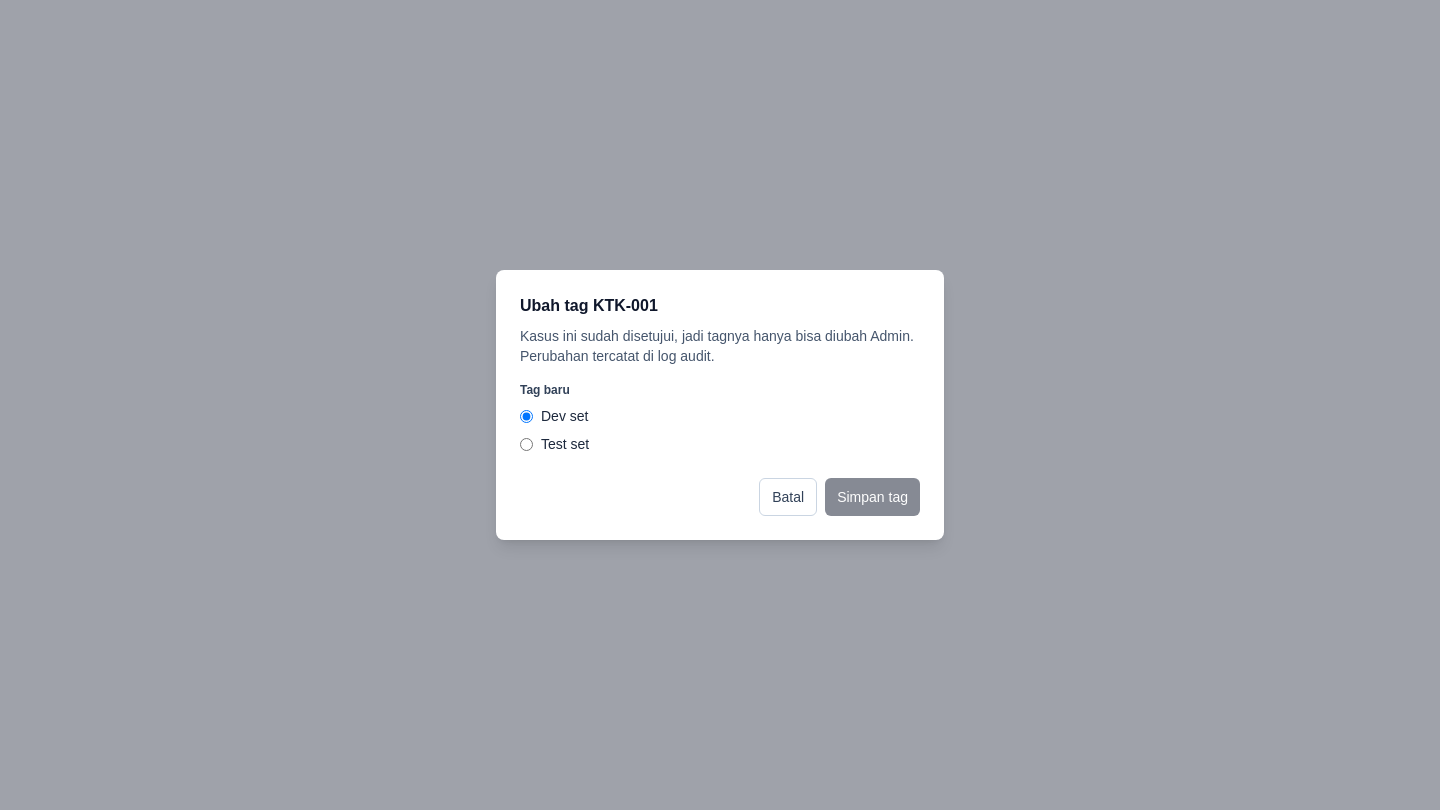
Test: ChangeSplitTagDialog › warns before moving a dev case to test and waits for the confirmation (PBI-9 AC3)
The image size is (1440, 810).
Click the radio button labelled "Test set".
click(526, 444)  # box [520, 438, 533, 450]
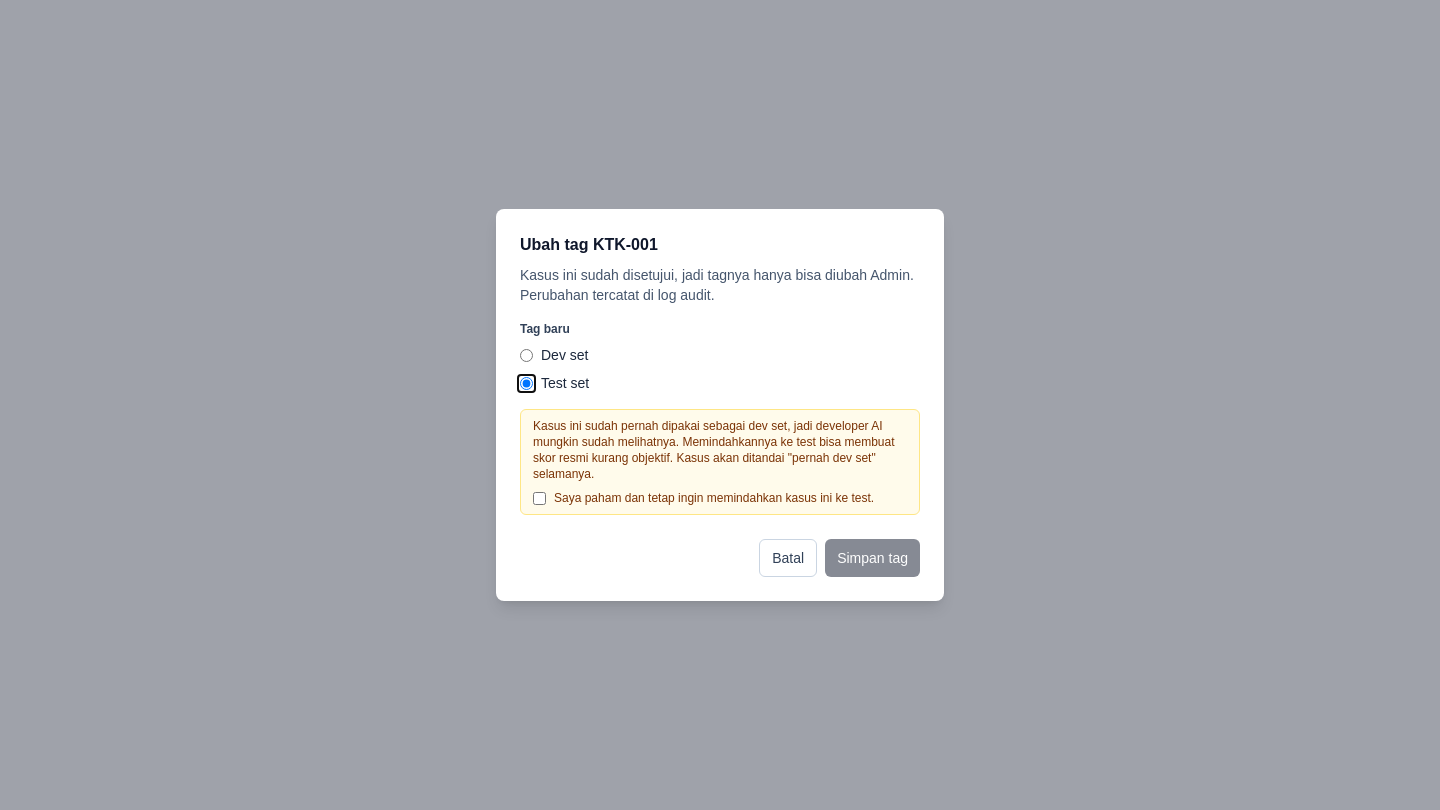
Expected: the button "Simpan tag" is disabled, [825, 539, 920, 577]
Expected: the message shows "sudah pernah dipakai sebagai dev set", [533, 419, 894, 481]
